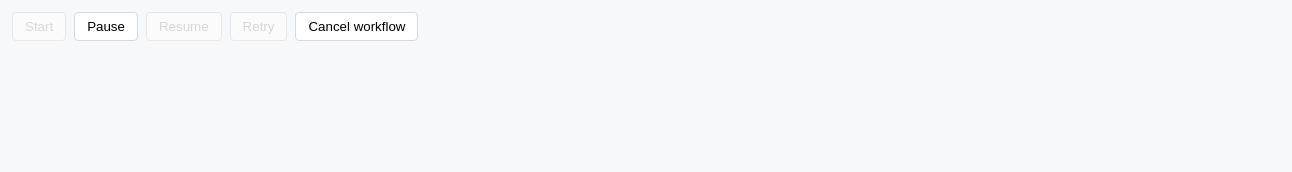
Test case: ControlBar › backend conflict is shown as a dismissible alert and still refreshes
This screenshot has width=1292, height=172.
Click the button "Pause".
click(106, 26)  # box [74,12,138,41]
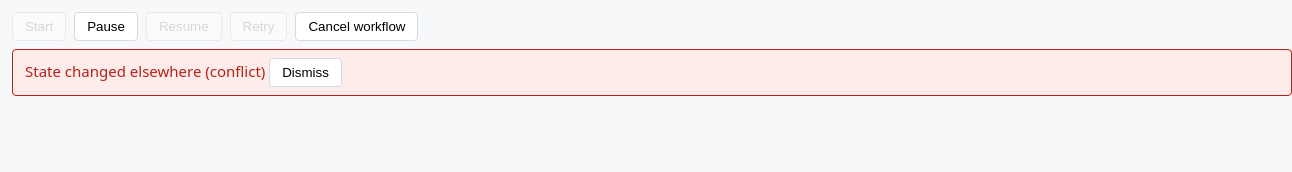
Expected: the message shows "State changed elsewhere", [25,61,265,81]
Expected: the message shows "conflict", [25,61,265,81]
Click the button with aria-label "Dismiss message".
click(306, 72)  # box [269,58,342,87]
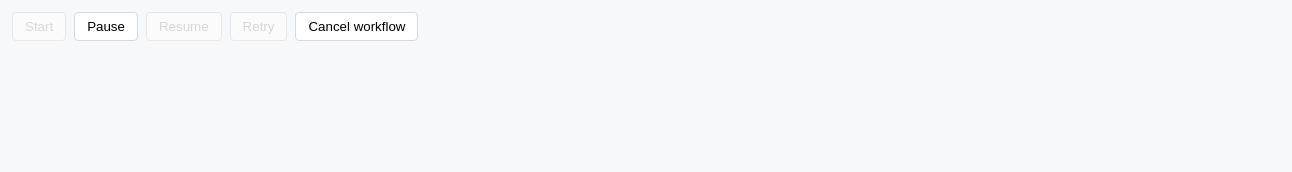
Expected: the message "State changed elsewhere (conflict) Dismiss" is gone
